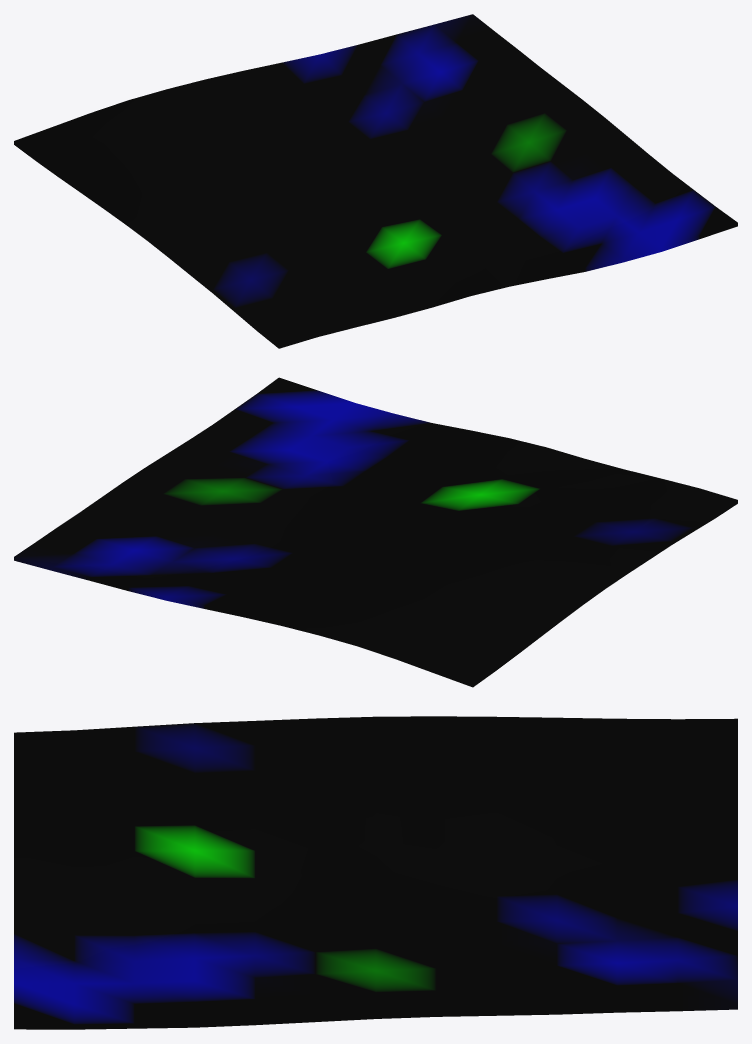
The model's file is coast_20_2.glb.
3 views of the same model, one above another, from view 1: azimuth 30°, elevation 25°; view 2: azimuth 150°, elevation 25°; view 3: azimuth 270°, elevation 25° (orthographic). The views are drawn at different scales.
Visible parts, largest first — view 1: terrain; view 2: terrain; view 3: terrain.
Boxes of the visible parts, x1,y1,x2,y2 form: terrain: (14, 14, 737, 348); terrain: (14, 377, 737, 687); terrain: (14, 716, 737, 1029).
Bounding box in the file's own units: 192 × 11.48 × 192.
